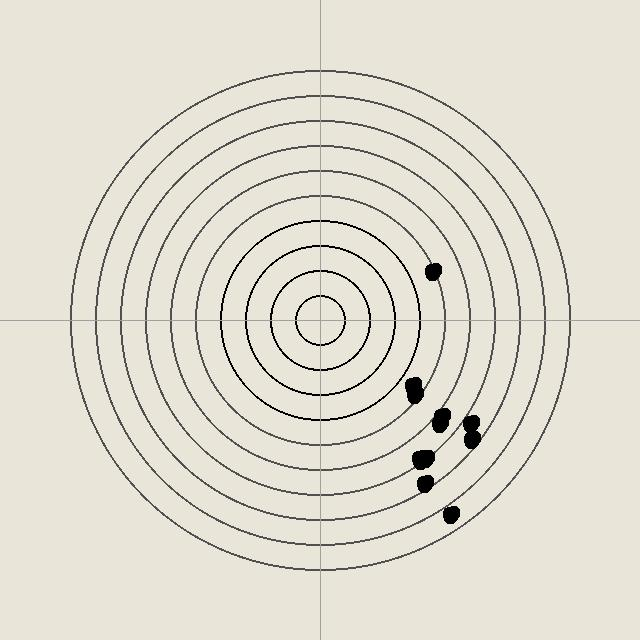vertical_scatter: (404, 384, 424, 404), (431, 406, 451, 426), (440, 504, 460, 524), (409, 448, 429, 468), (460, 413, 480, 433), (402, 375, 422, 395), (429, 413, 449, 433), (461, 429, 481, 449), (422, 261, 442, 281), (415, 448, 435, 468), (414, 473, 434, 493), (410, 450, 430, 470)
